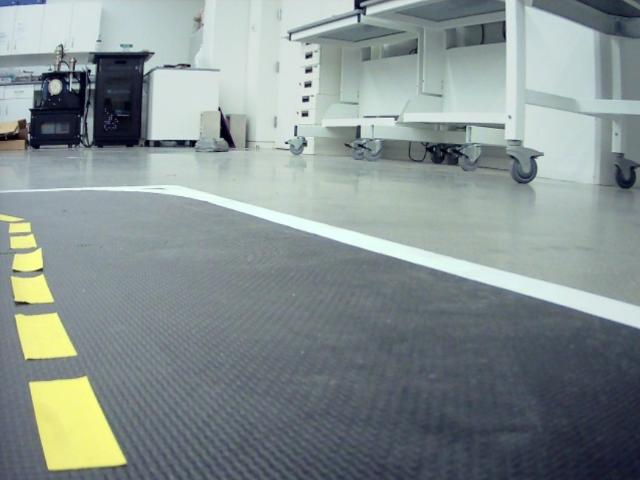whiteline: (158, 186, 639, 331), (0, 176, 175, 193)
yellowline: (0, 212, 126, 470)
